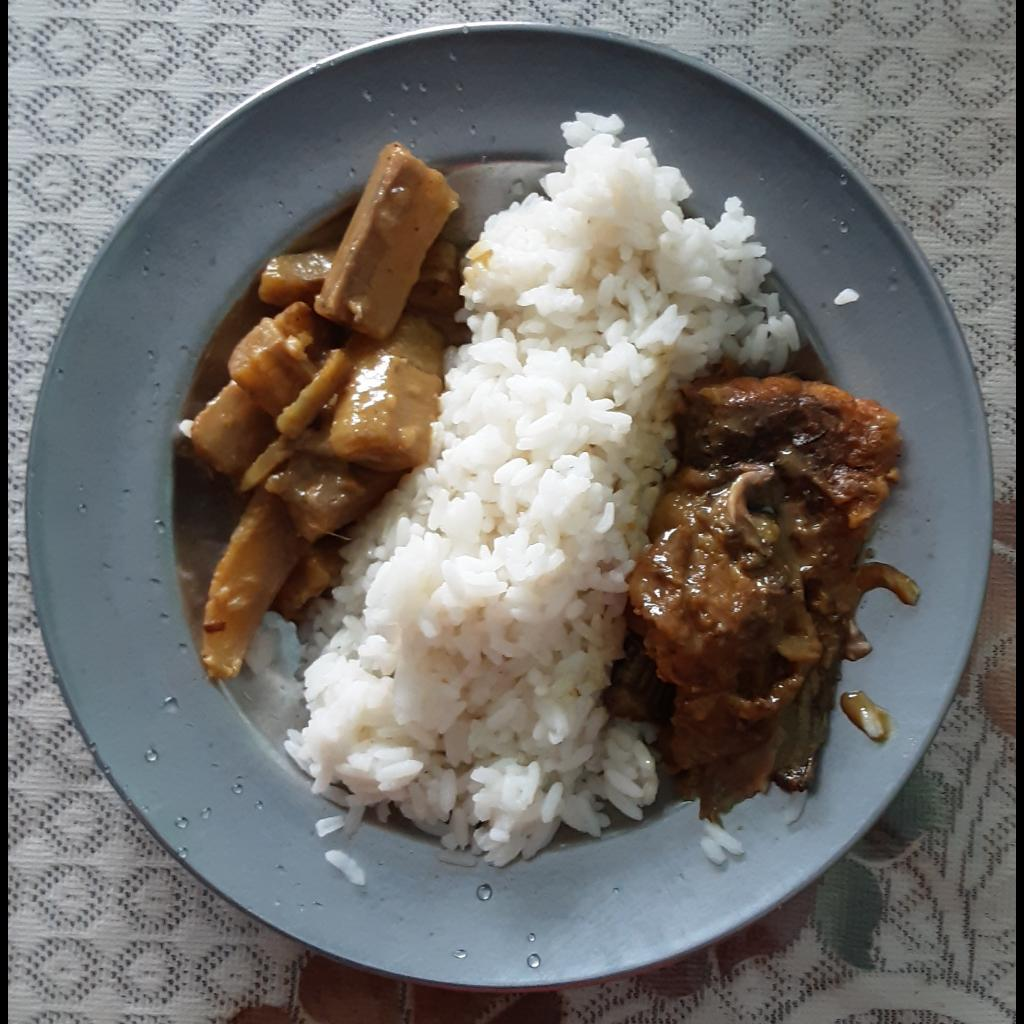fish: (606, 373, 924, 827)
kochu: (183, 143, 458, 679)
rice: (276, 114, 801, 887)
